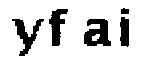a: (81, 15, 115, 52)
f: (49, 6, 71, 51)
i: (119, 6, 135, 51)
y: (6, 17, 46, 59)
